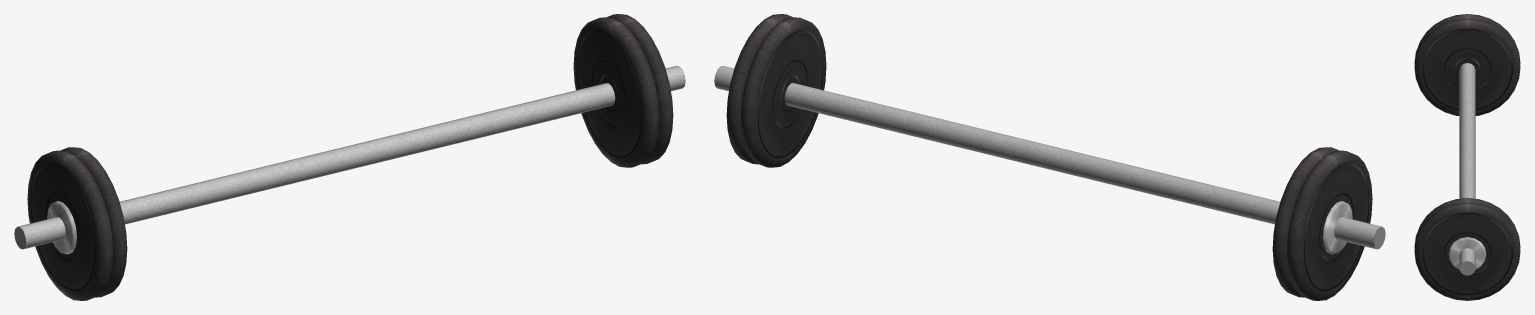
File: Barbell01.FBX
The picture shows the model from 3 angles, left to right: view 1: azimuth 30°, elevation 25°; view 2: azimuth 150°, elevation 25°; view 3: azimuth 270°, elevation 25°; orthographic projection. The views are drawn at different scales.
Parts seen in each view (by area): view 1: Barbell01; view 2: Barbell01; view 3: Barbell01.
Part boxes in pixels (x1,y1,x2,y2): Barbell01: (14, 14, 685, 300); Barbell01: (714, 14, 1385, 300); Barbell01: (1414, 14, 1520, 300).
Size of the model in its own units: 2129 by 429 by 429.
